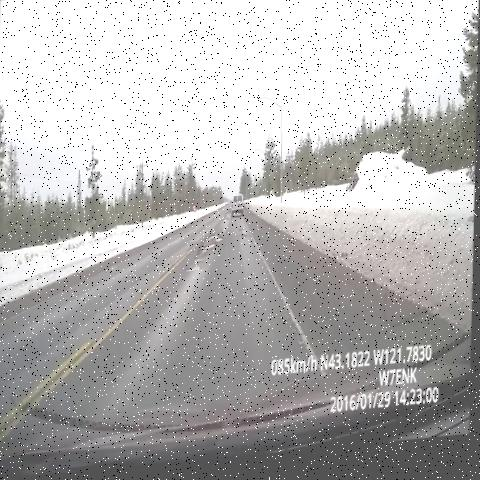pothole: (184, 234, 229, 292), (219, 207, 236, 233), (235, 227, 253, 251)
